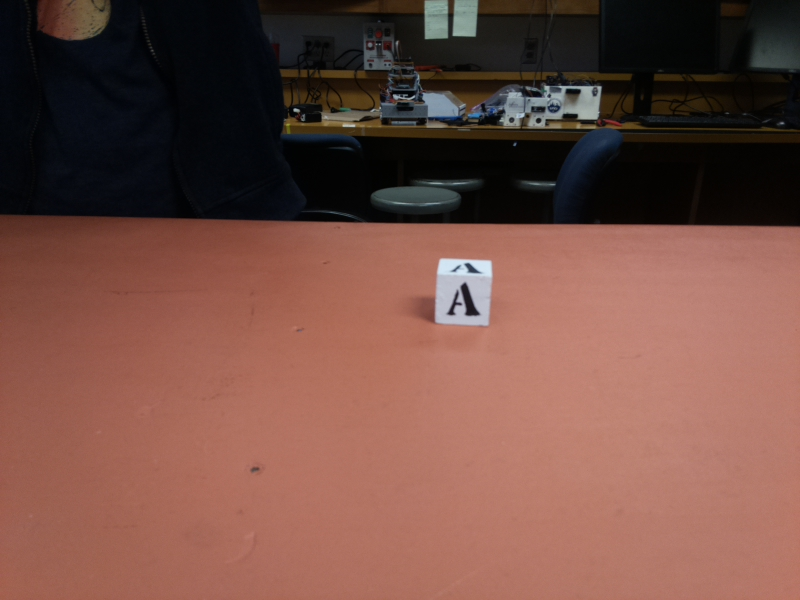blockA: (433, 253, 498, 327)
